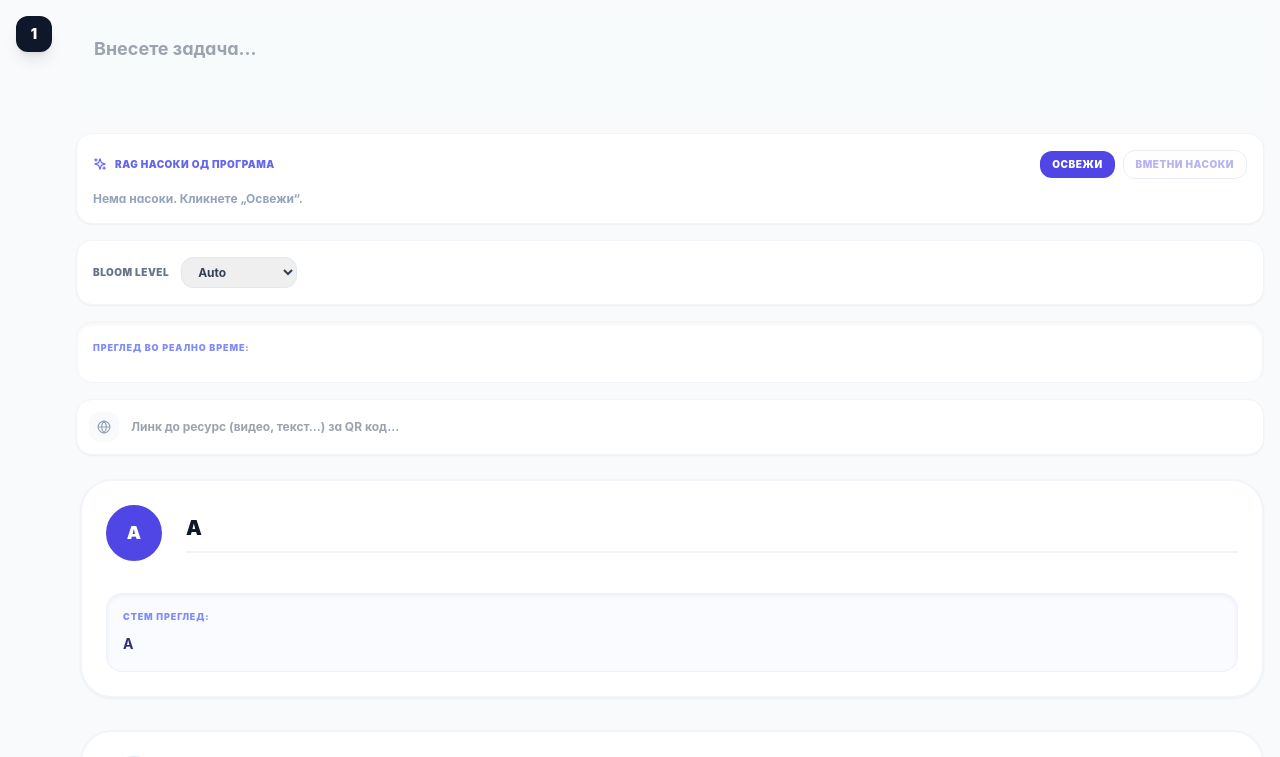
Test case: Question RAG editor flow › shows validation message when question text is empty
Step 1. Click the button "Освежи" → coordinates (1077, 164), box [1040,150,1115,178]
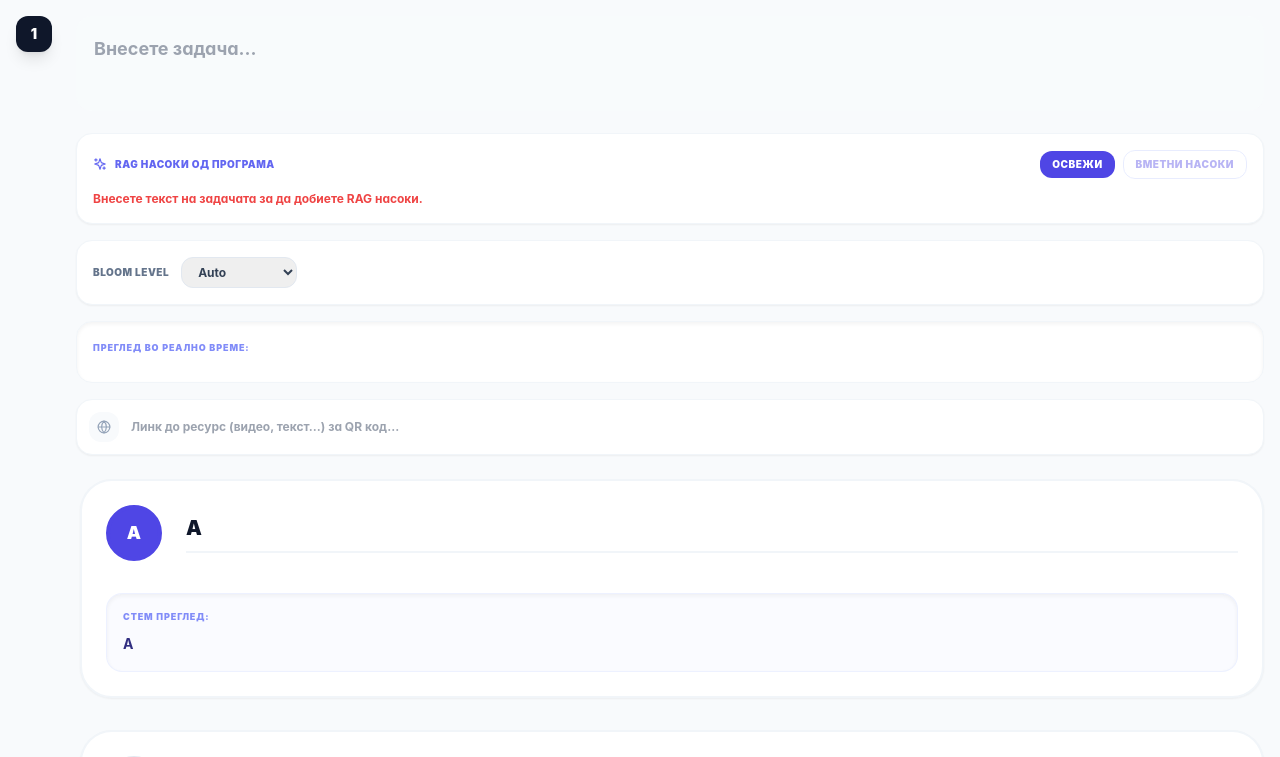
Now the text "Внесете текст на задачата за да добиете RAG насоки." is shown, box [93,190,423,206]
